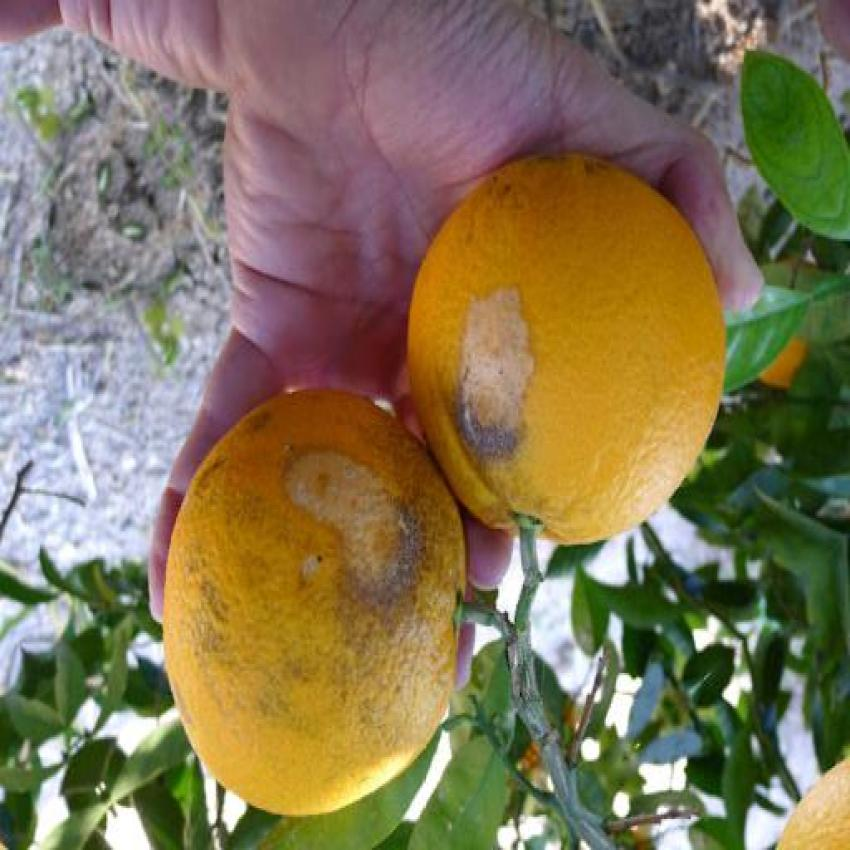Mal estado: (389, 115, 716, 564), (139, 366, 478, 792)
